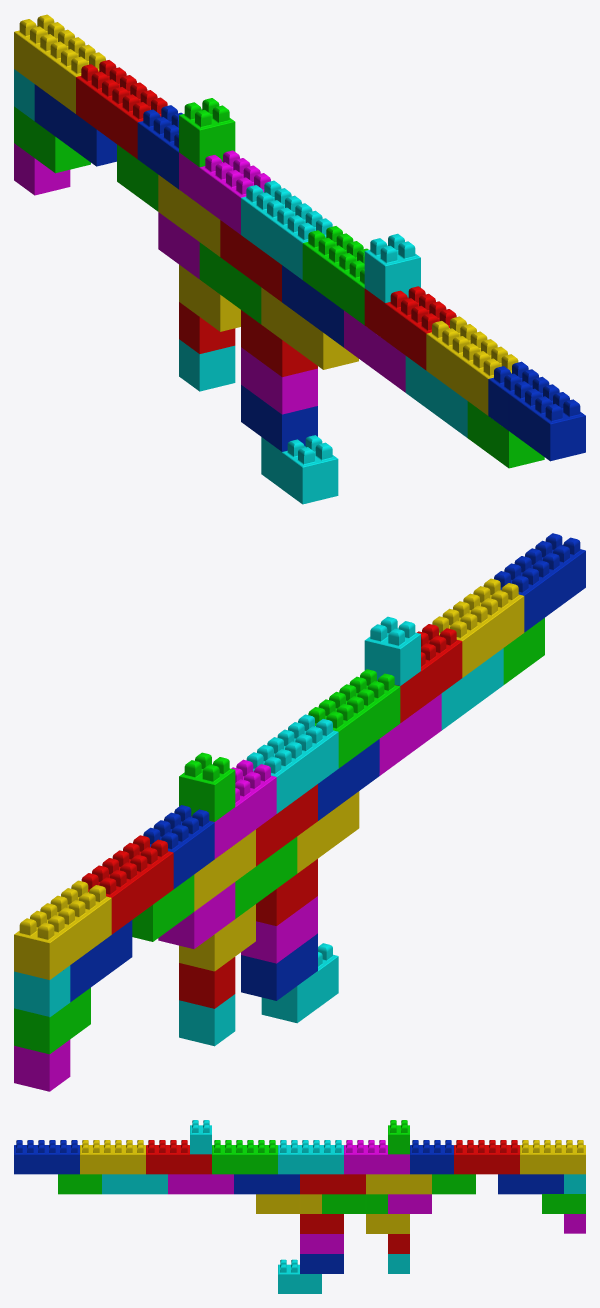
3 renders of one model, top to bottom at view 1: azimuth 30°, elevation 25°; view 2: azimuth 150°, elevation 25°; view 3: azimuth 270°, elevation 25°, orthographic. The views are drawn at different scales.
Visible parts, largest first — view 1: klocekx5:klocekx3, klocekx6, klocekx50, klocekx29, klocekx53, klocekx51, klocekx78, klocekx80, klocekx20, klocekx62, klocekx47, klocekx79 (+23 smaller); view 2: klocekx53, klocekx6, klocekx51, klocekx50, klocekx29, klocekx5:klocekx3, klocekx34:klocekx2, klocekx47, klocekx79, klocekx13, klocekx58, klocekx80 (+23 smaller); view 3: klocekx51, klocekx50, klocekx53, klocekx29, klocekx5:klocekx3, klocekx6, klocekx34:klocekx2, klocekx78, klocekx80, klocekx7:klocekx3, klocekx74, klocekx63 (+23 smaller).
Boxes of the visible parts, x1=… form: klocekx5:klocekx3: x1=488, y1=361, x2=585, y2=461; klocekx6: x1=426, y1=316, x2=518, y2=415; klocekx50: x1=241, y1=180, x2=332, y2=279; klocekx29: x1=76, y1=60, x2=167, y2=158; klocekx53: x1=14, y1=14, x2=105, y2=113; klocekx51: x1=302, y1=226, x2=368, y2=325; klocekx78: x1=385, y1=286, x2=456, y2=370; klocekx80: x1=199, y1=150, x2=270, y2=234; klocekx20: x1=282, y1=435, x2=338, y2=504; klocekx62: x1=261, y1=287, x2=358, y2=369; klocekx47: x1=364, y1=233, x2=420, y2=302; klocekx79: x1=179, y1=98, x2=235, y2=167; klocekx53: x1=14, y1=880, x2=111, y2=979; klocekx6: x1=432, y1=578, x2=524, y2=677; klocekx51: x1=308, y1=669, x2=400, y2=768; klocekx50: x1=246, y1=714, x2=338, y2=813; klocekx29: x1=81, y1=835, x2=173, y2=934; klocekx5:klocekx3: x1=494, y1=533, x2=585, y2=632; klocekx34:klocekx2: x1=143, y1=805, x2=214, y2=888; klocekx47: x1=364, y1=616, x2=420, y2=685; klocekx79: x1=179, y1=752, x2=235, y2=821; klocekx13: x1=241, y1=933, x2=317, y2=1000; klocekx58: x1=14, y1=987, x2=90, y2=1054; klocekx80: x1=231, y1=759, x2=276, y2=843; klocekx51: x1=212, y1=1140, x2=277, y2=1174; klocekx50: x1=278, y1=1140, x2=343, y2=1174; klocekx53: x1=520, y1=1140, x2=585, y2=1174; klocekx29: x1=454, y1=1140, x2=519, y2=1174; klocekx5:klocekx3: x1=14, y1=1140, x2=79, y2=1174; klocekx6: x1=80, y1=1140, x2=145, y2=1174; klocekx34:klocekx2: x1=410, y1=1140, x2=453, y2=1174; klocekx78: x1=146, y1=1140, x2=189, y2=1174; klocekx80: x1=344, y1=1140, x2=387, y2=1174; klocekx7:klocekx3: x1=102, y1=1174, x2=167, y2=1194; klocekx74: x1=366, y1=1174, x2=431, y2=1194; klocekx63: x1=300, y1=1174, x2=365, y2=1194.
Bounding box in the file's own units: 3.01 × 25 × 77.99.
